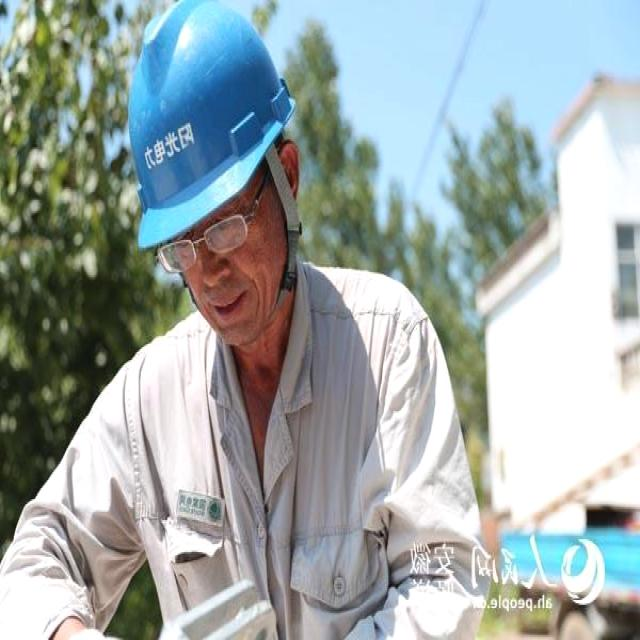face_nomask: (177, 171, 281, 362)
glasses: (154, 200, 250, 288)
head_helmet: (130, 2, 300, 248)
person: (1, 1, 481, 636)
